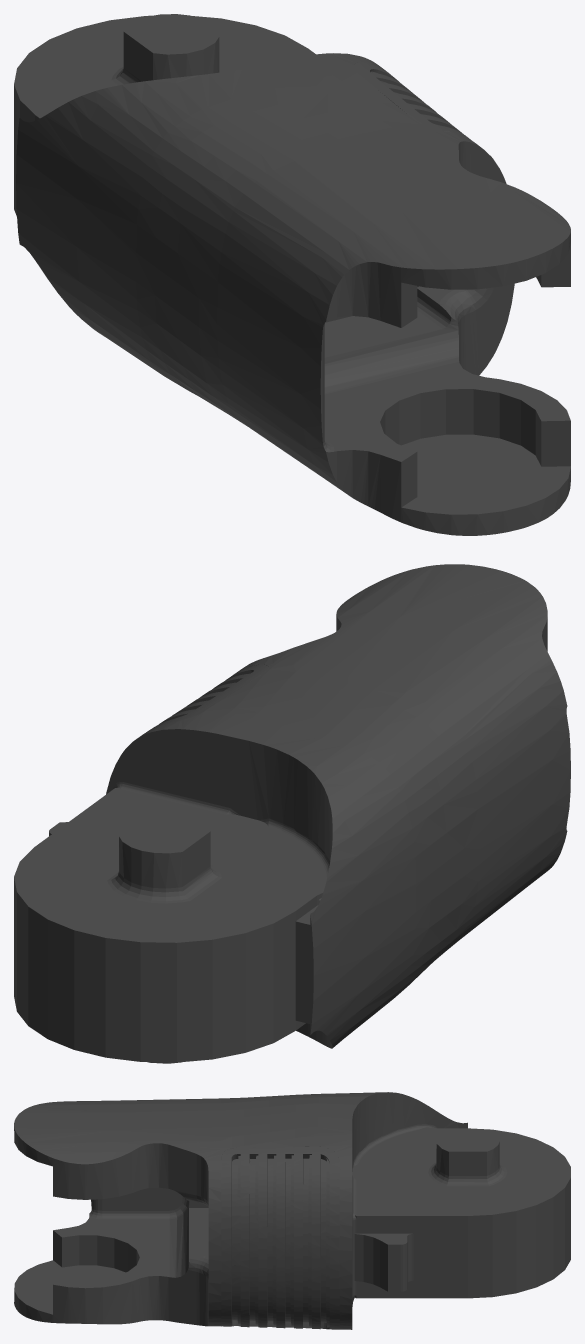
File: lh_middle_proximal_vis.obj
3 renders of one model, top to bottom at view 1: azimuth 30°, elevation 25°; view 2: azimuth 150°, elevation 25°; view 3: azimuth 270°, elevation 25°, orthographic. The views are drawn at different scales.
Parts seen in each view (by area): view 1: lh_middle_proximal; view 2: lh_middle_proximal; view 3: lh_middle_proximal.
Boxes of the visible parts, x1,y1,x2,y2 form: lh_middle_proximal: (14,14,570,535); lh_middle_proximal: (14,564,570,1063); lh_middle_proximal: (14,1092,570,1329).
Size of the model in its own units: 0.0191 by 0.016 by 0.0429.
Materials: 1 (1 with a texture image).
